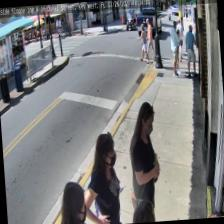person: (125, 101, 162, 222), (78, 130, 121, 224), (55, 179, 88, 224), (168, 20, 182, 76), (130, 198, 155, 223), (184, 24, 196, 76)
